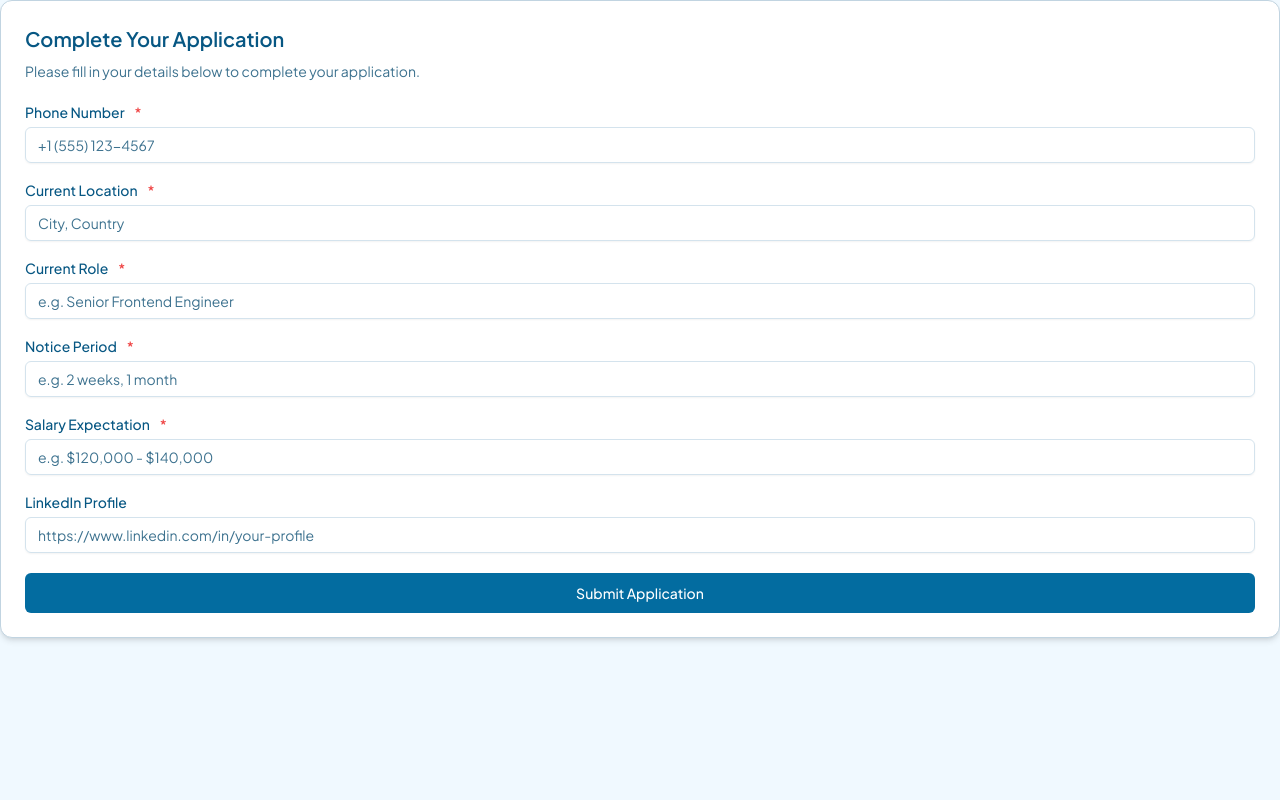
Test: ApplicationForm › validates phone number — rejects invalid characters
Step 1. Type "abc12345" into the field labelled "Phone Number *" → (640,145), box left=25, top=127, right=1255, bottom=163
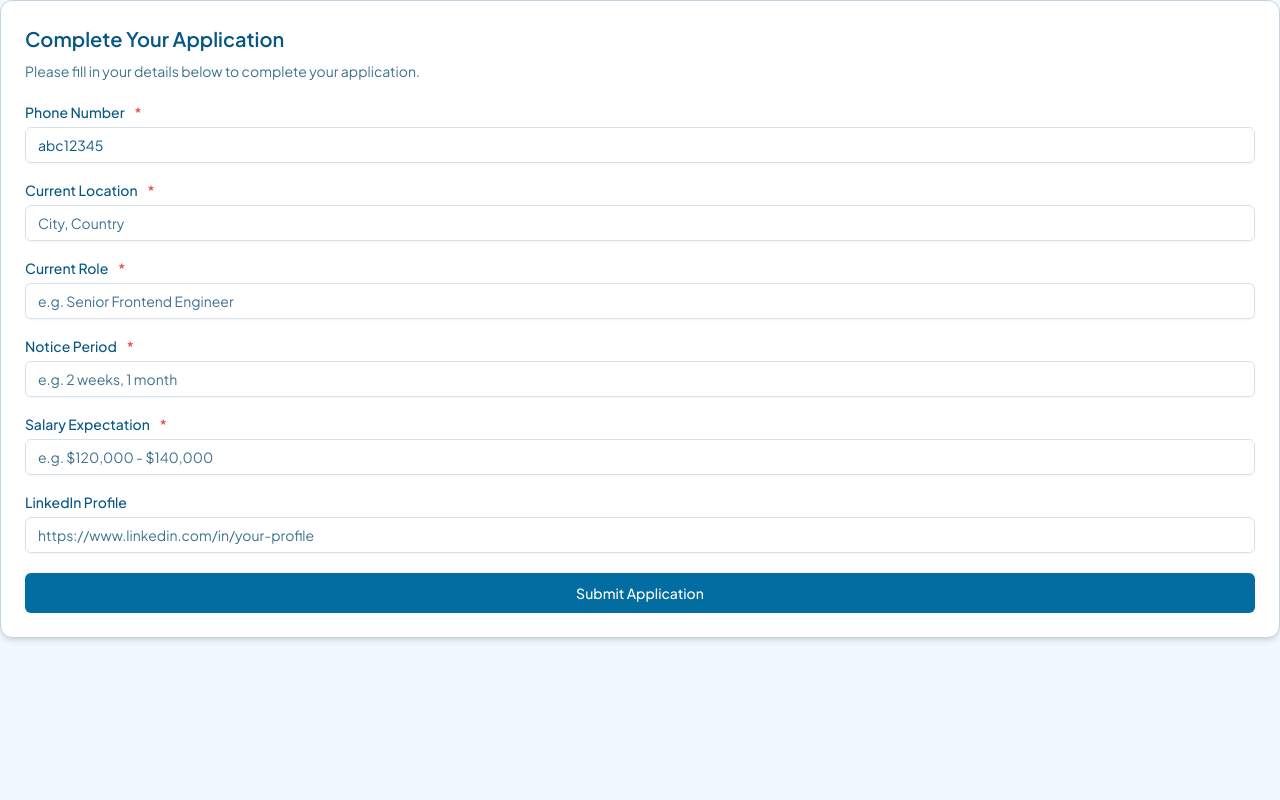
Step 2. Leave the field labelled "Phone Number *", box left=25, top=127, right=1255, bottom=163
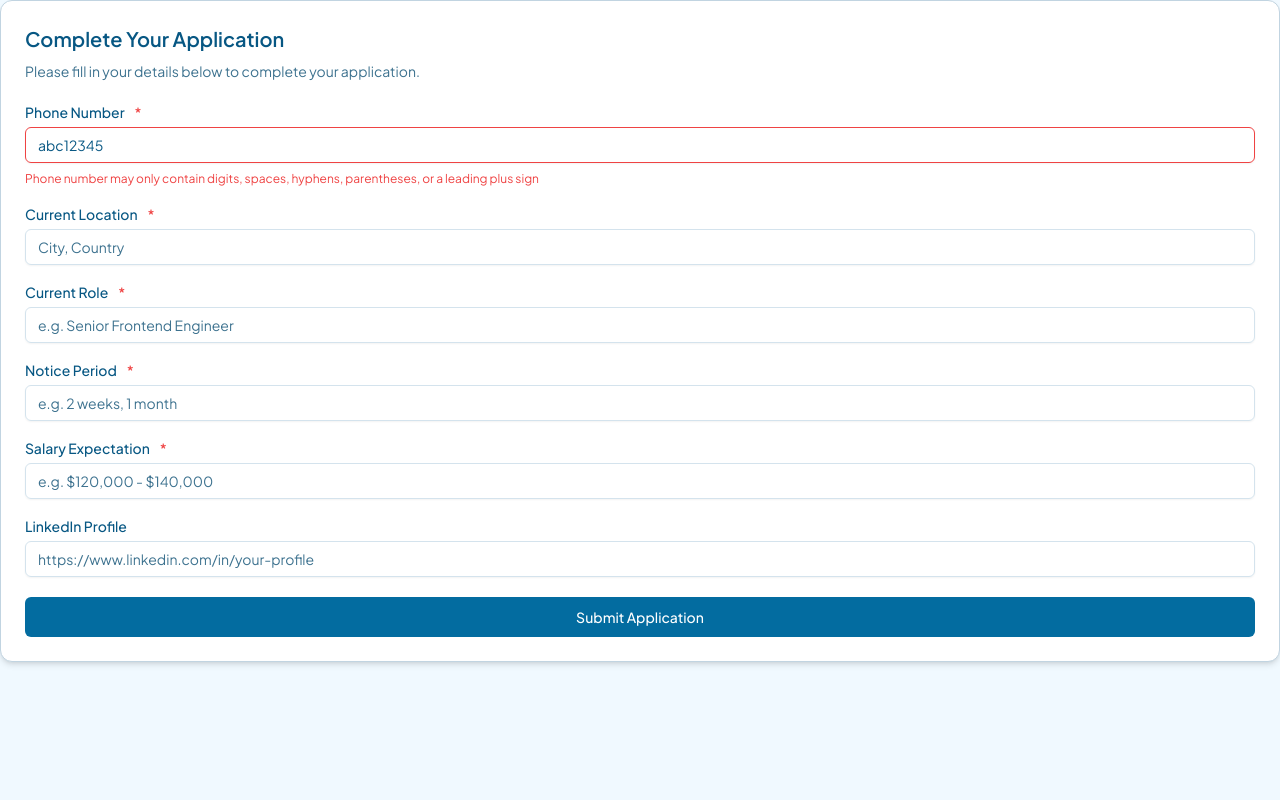
Result: the text "Phone number may only contain digits, spaces, hyphens" is shown at left=25, top=171, right=539, bottom=186
